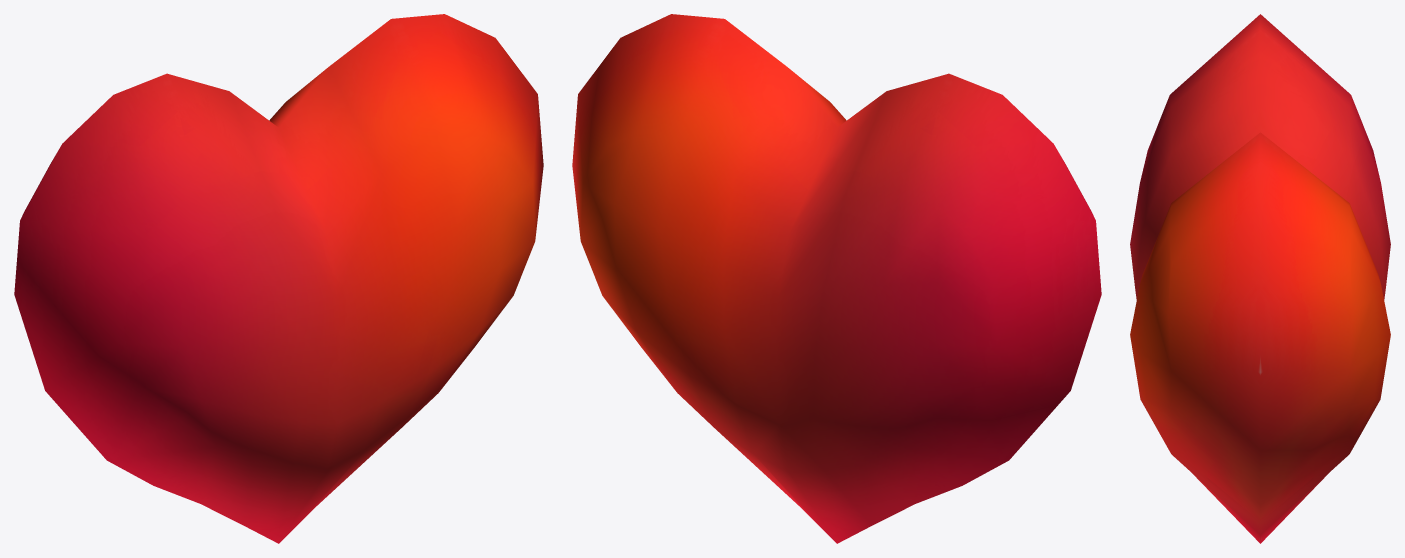
File: pickup_heart.fbx
The picture shows the model from 3 angles, left to right: view 1: azimuth 30°, elevation 25°; view 2: azimuth 150°, elevation 25°; view 3: azimuth 270°, elevation 25°; orthographic projection. The views are drawn at different scales.
Parts seen in each view (by area): view 1: pCube5; view 2: pCube5; view 3: pCube5.
Part boxes in pixels (x1,y1,x2,y2): pCube5: [14, 14, 543, 543]; pCube5: [572, 14, 1101, 543]; pCube5: [1130, 14, 1390, 543].
Size of the model in its own units: 7.33 by 6.59 by 3.37.
Materials: 1 (1 with a texture image).
